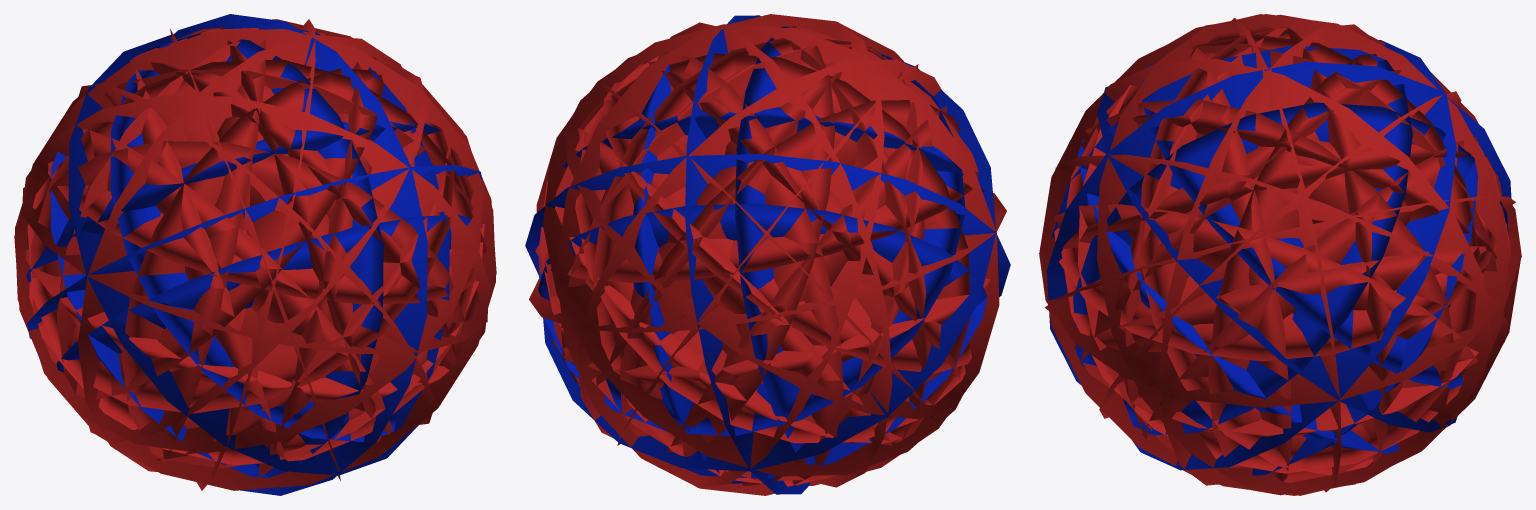
File: tama1.fbx
3 views of the same model, side by side, from view 1: azimuth 30°, elevation 25°; view 2: azimuth 150°, elevation 25°; view 3: azimuth 270°, elevation 25° (orthographic).
Visible parts, largest first — view 1: polySurface27; view 2: polySurface27; view 3: polySurface27.
Boxes of the visible parts, box(x1,y1,x2,y2) form: polySurface27: box(14, 14, 496, 495); polySurface27: box(525, 14, 1010, 495); polySurface27: box(1039, 14, 1521, 495).
Bounding box in the file's own units: 0.2442 × 0.2418 × 0.2433.
